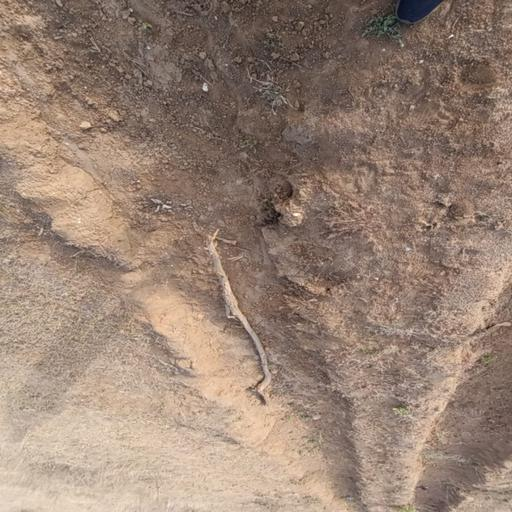vehicle_track: (0, 0, 367, 512), (417, 279, 512, 512)
